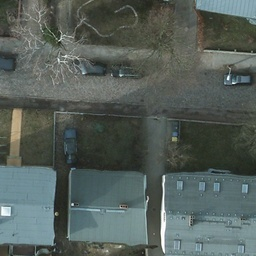car: (60, 130, 81, 165), (109, 63, 145, 81), (222, 69, 255, 87)
van: (0, 54, 12, 69)
